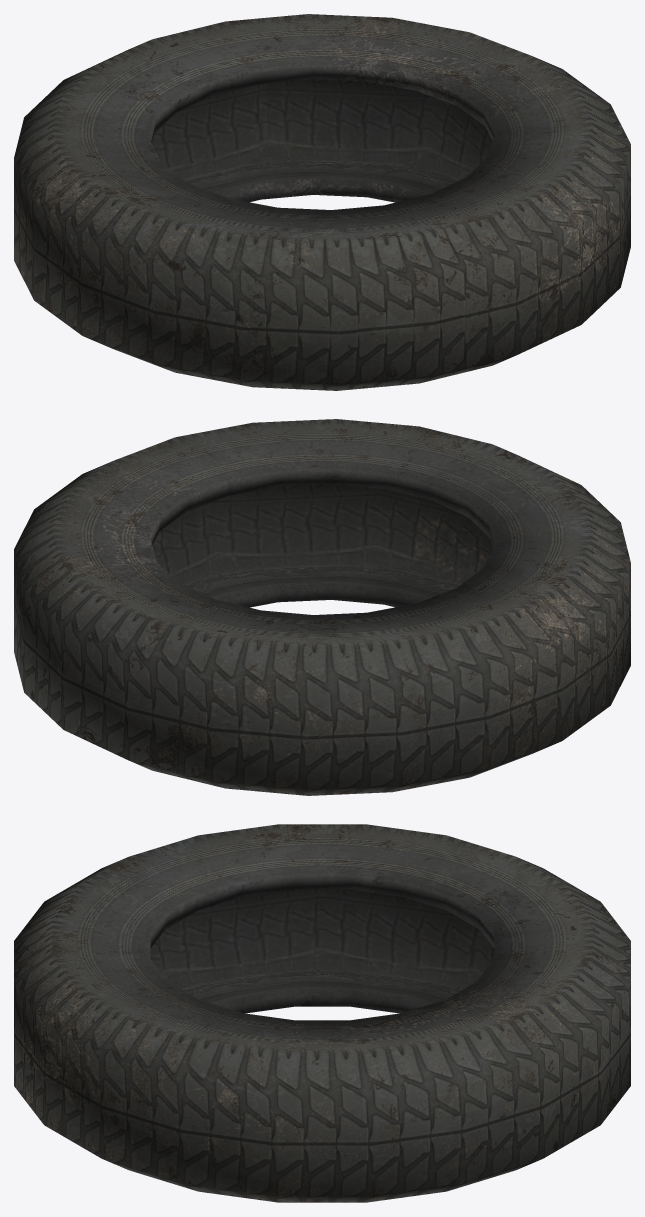
File: Tire_LOD0.fbx
3 renders of one model, top to bottom at view 1: azimuth 30°, elevation 25°; view 2: azimuth 150°, elevation 25°; view 3: azimuth 270°, elevation 25°, orthographic.
Visible parts, largest first — view 1: tire_lp:polySurface3; view 2: tire_lp:polySurface3; view 3: tire_lp:polySurface3.
Part boxes in pixels (left/top/right/bottom): tire_lp:polySurface3: left=14, top=14, right=630, bottom=390; tire_lp:polySurface3: left=14, top=419, right=630, bottom=795; tire_lp:polySurface3: left=14, top=824, right=630, bottom=1202.
Size of the model in its own units: 1.32 by 0.3558 by 1.32.
